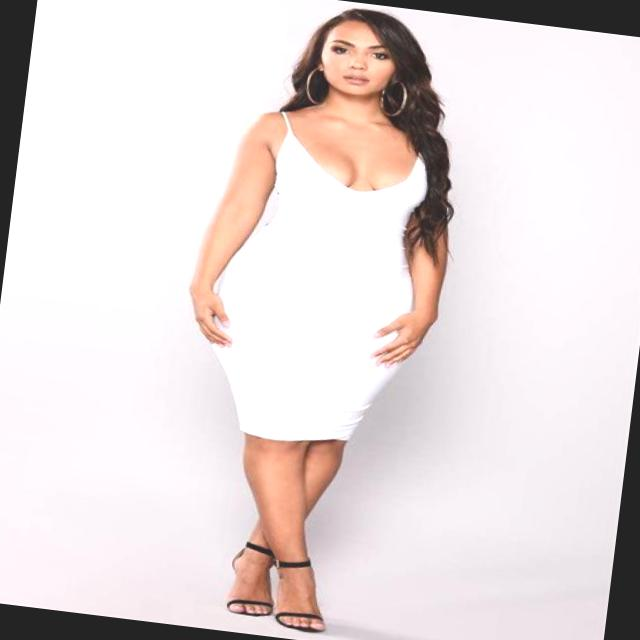dress: (194, 104, 442, 457)
